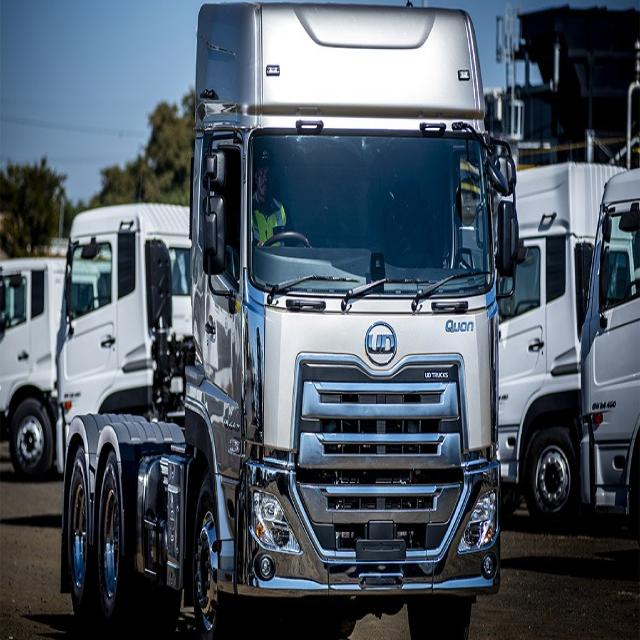Heavy Duty Truck: (60, 1, 528, 638), (579, 139, 638, 574), (0, 238, 60, 484)
